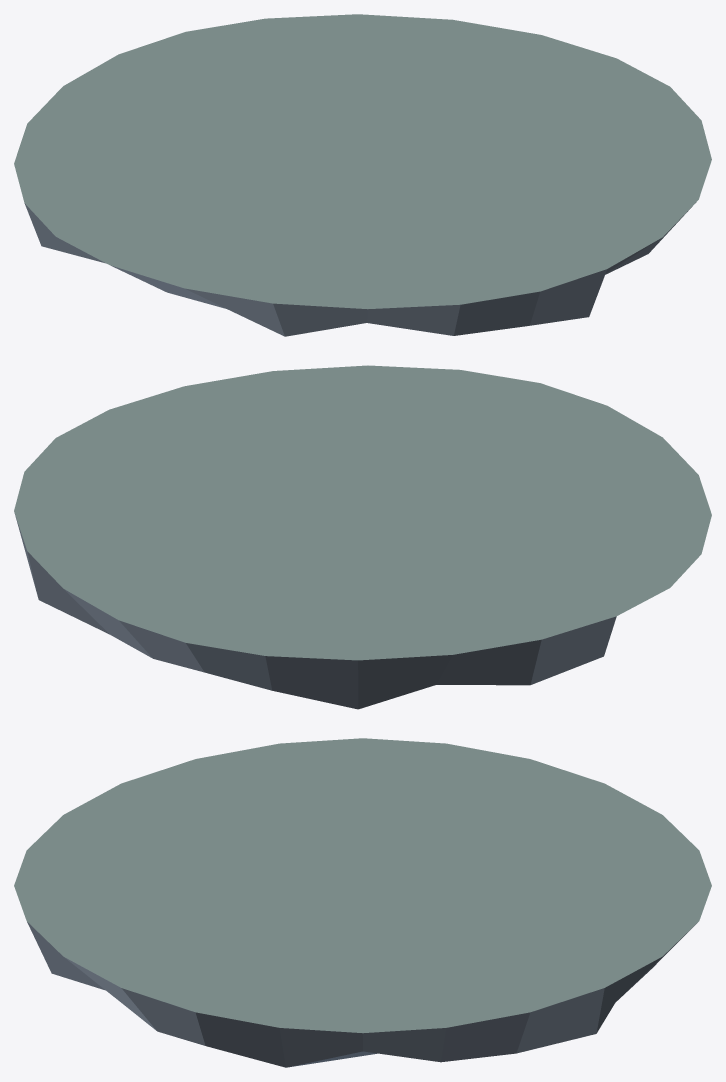
File: Island_Frag_07.fbx
3 views of the same model, one above another, from view 1: azimuth 30°, elevation 25°; view 2: azimuth 150°, elevation 25°; view 3: azimuth 270°, elevation 25° (orthographic).
Visible parts, largest first — view 1: Island_Frag_07; view 2: Island_Frag_07; view 3: Island_Frag_07.
Boxes of the visible parts, x1,y1,x2,y2 form: Island_Frag_07: (14,14,711,336); Island_Frag_07: (14,365,711,709); Island_Frag_07: (14,738,711,1067).
Size of what is drawn, in the model's own units: 9200 by 9200 by 1455.
